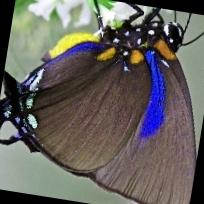butterfly: (0, 2, 196, 204)
